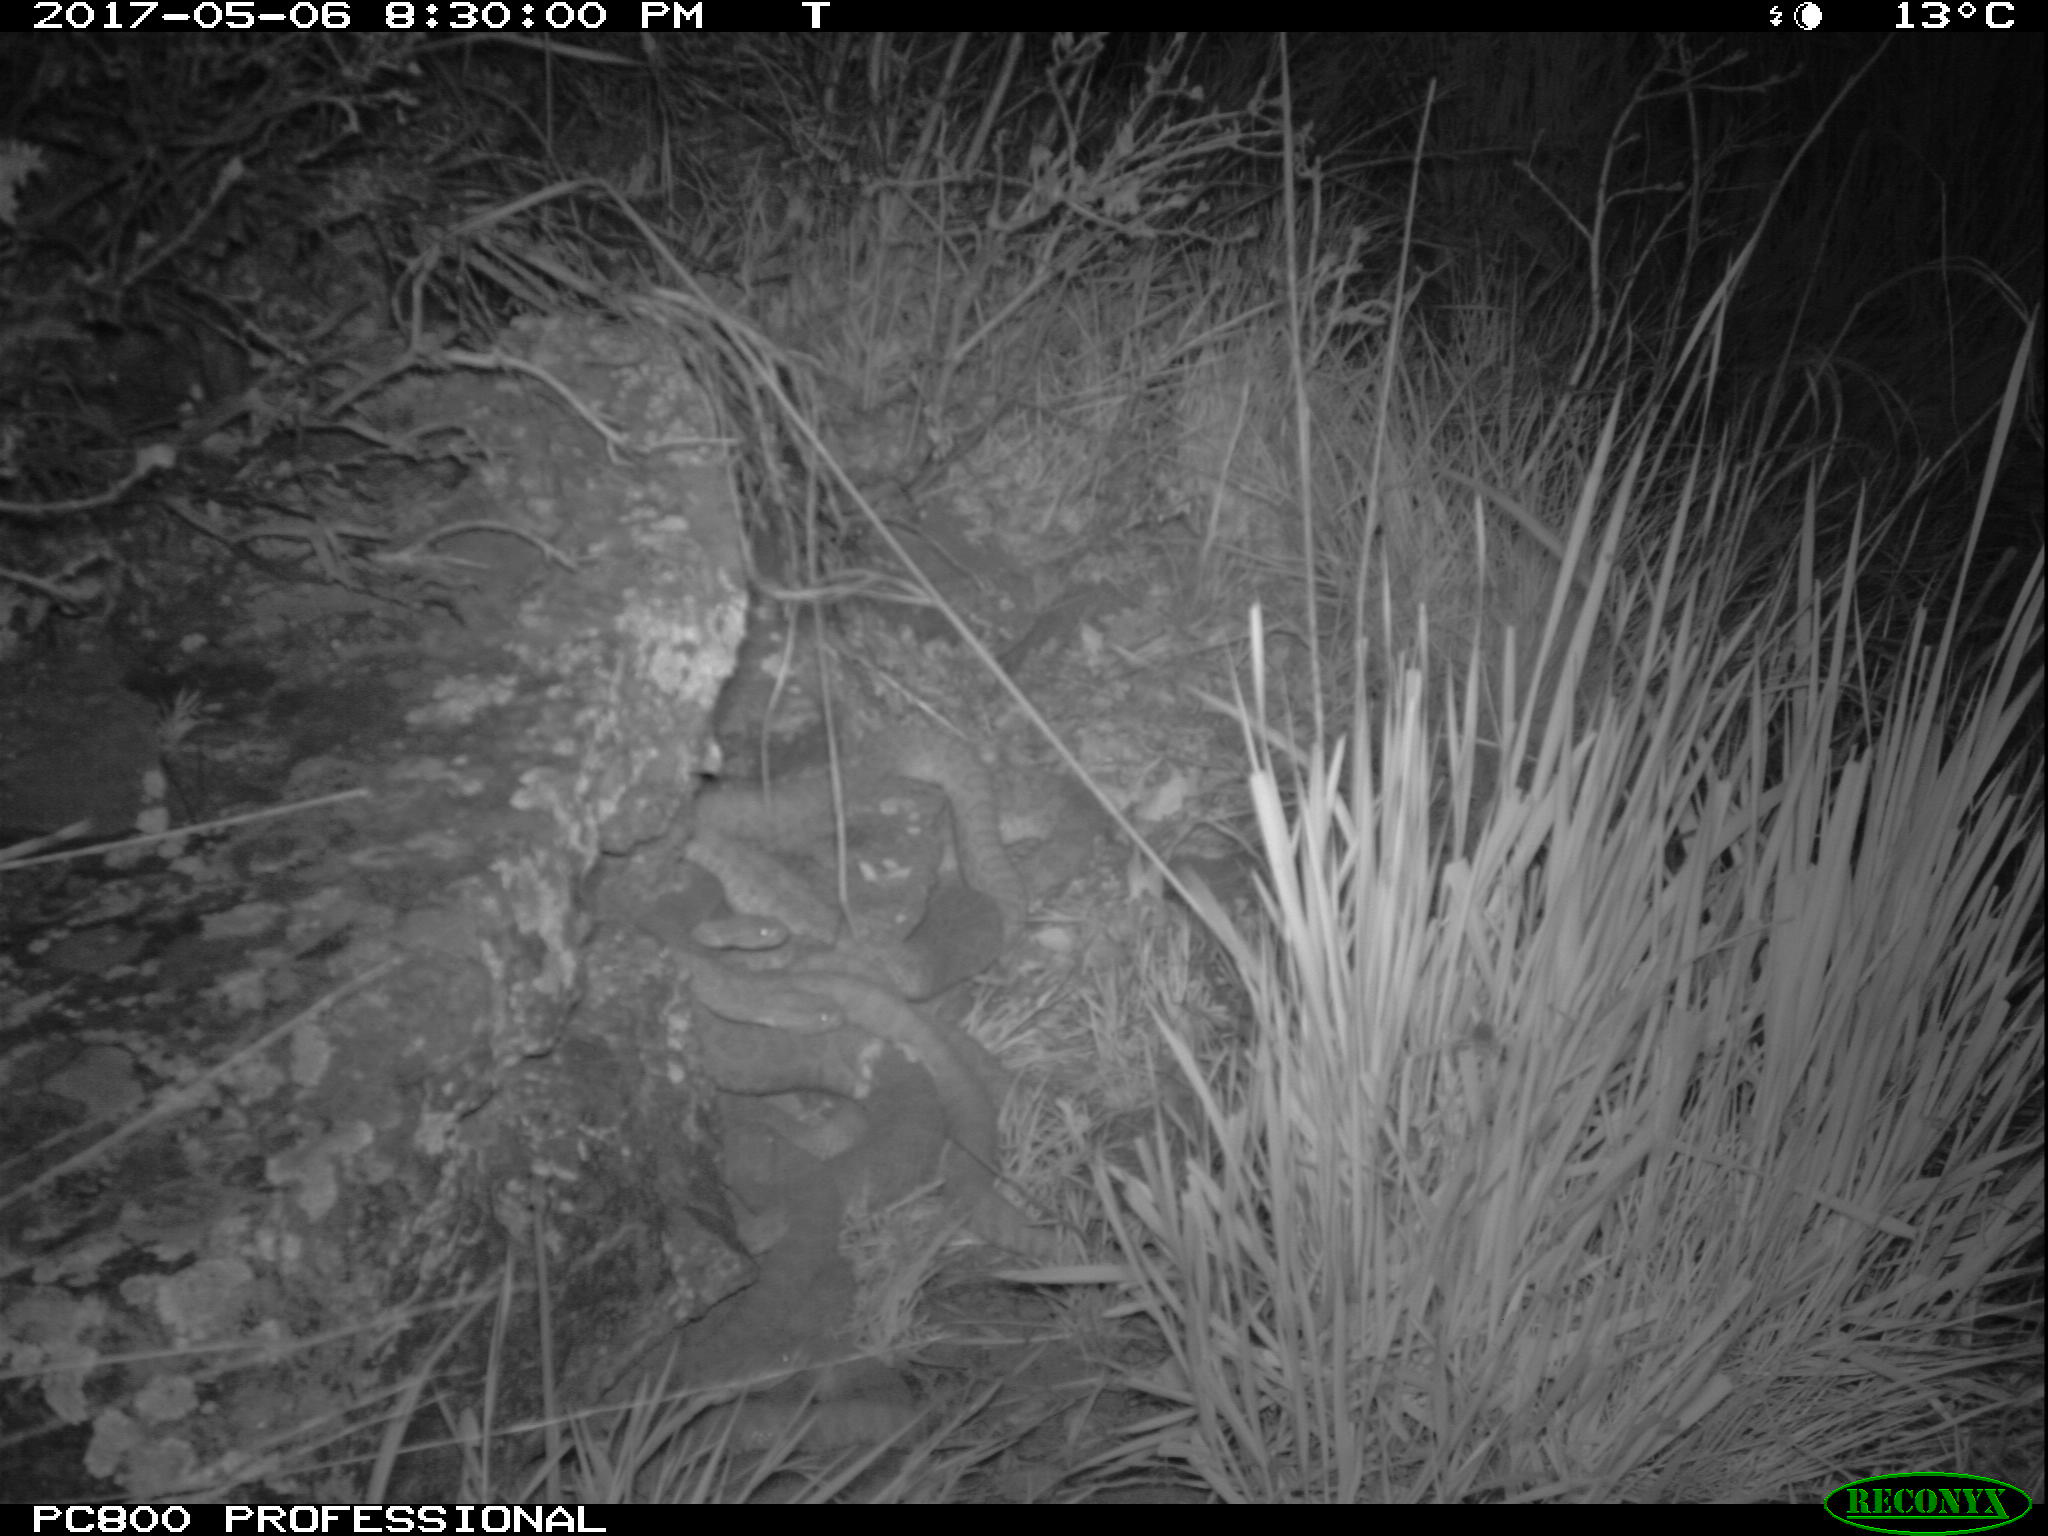snake: (692, 829, 1014, 1113), (703, 1105, 953, 1471), (714, 720, 1064, 912)
